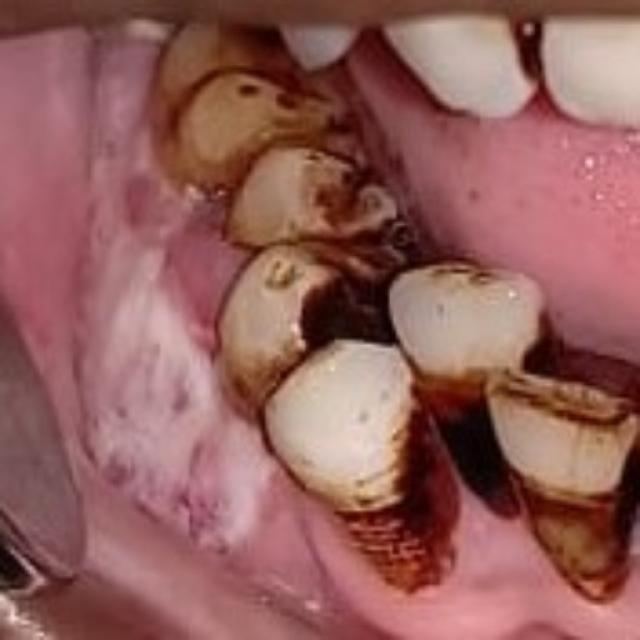cancer-detection: (67, 22, 335, 631)
processing_area: (347, 33, 636, 362)
